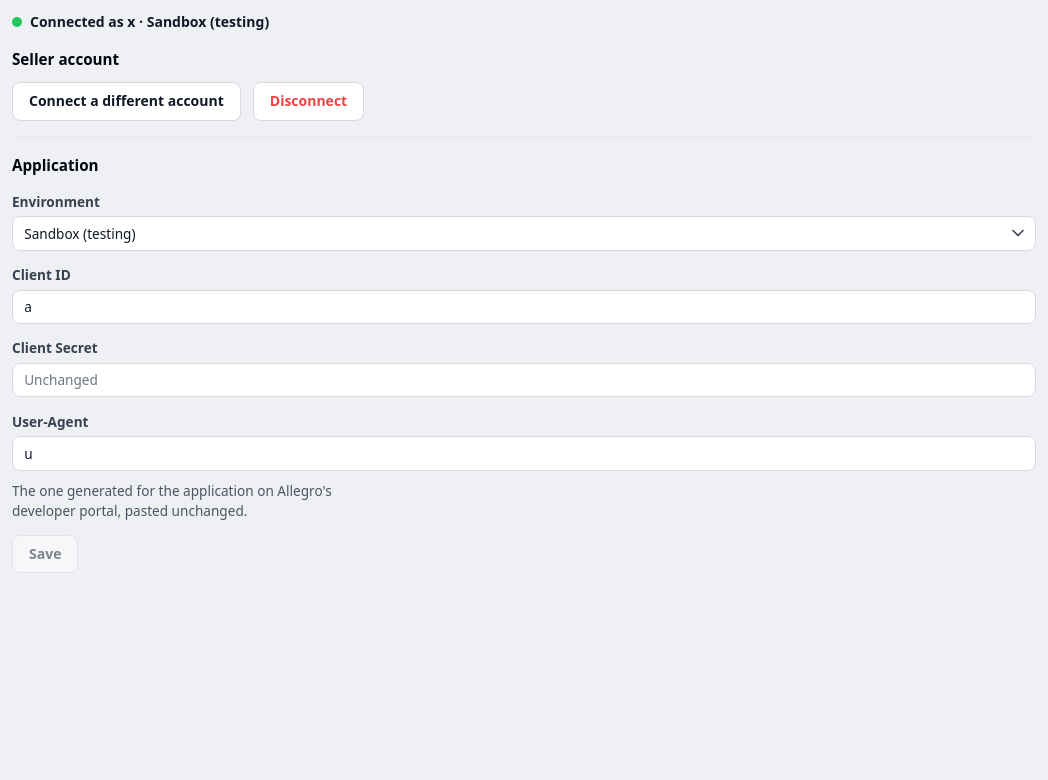
Test case: AllegroSettings › disconnects after confirmation
The image size is (1048, 780).
Click the button "Disconnect" at point(308, 101), box [253,82,364,121]
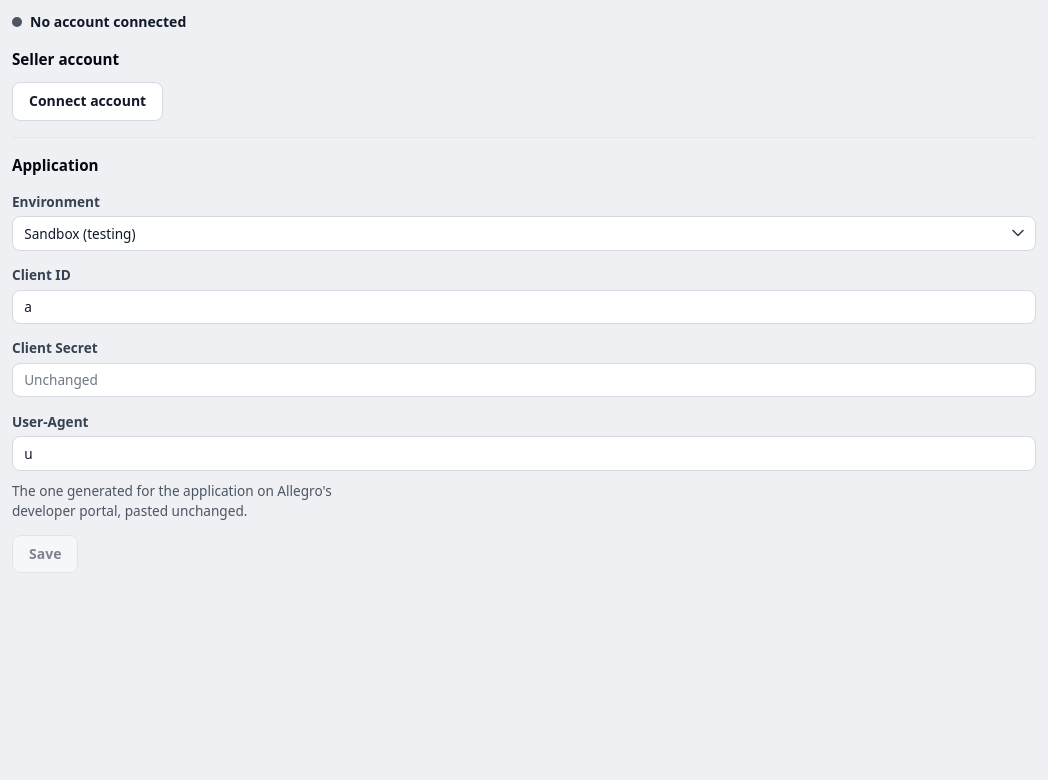
Now the text "No account connected" is shown, box [30,12,186,32]
